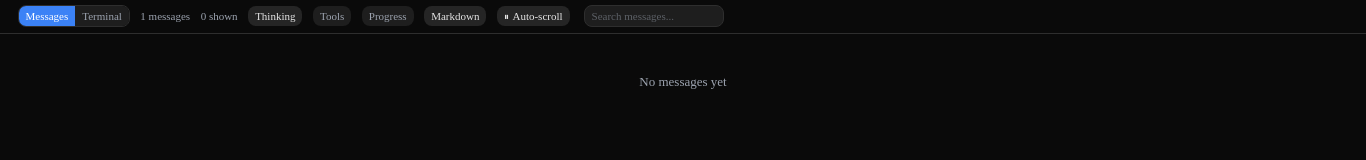
Test: MessageList message types › shows tool_use messages after clicking Tools toggle
Note: Click the Tools toggle button (aria-label contains "tool messages")
Click the button with aria-label "tool messages".
click(332, 16)  # box [313, 6, 351, 26]
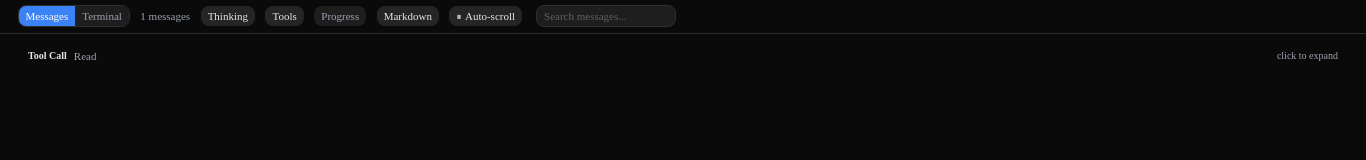
Now the text "Read" is shown, box [74, 48, 96, 64]
